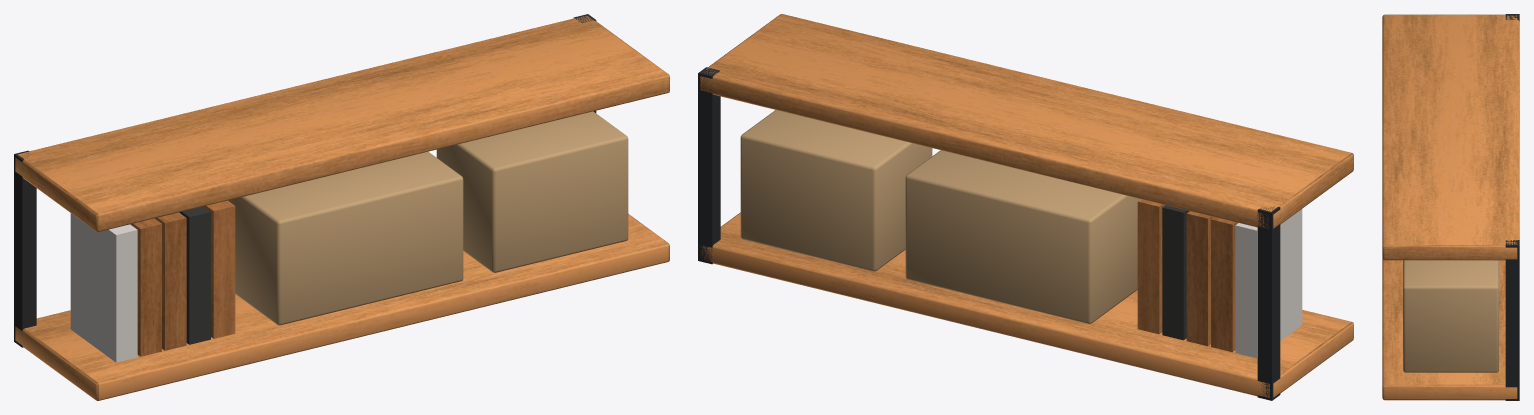
File: storage.wall-shelf-800x200.glb
The picture shows the model from 3 angles, left to right: view 1: azimuth 30°, elevation 25°; view 2: azimuth 150°, elevation 25°; view 3: azimuth 270°, elevation 25°; orthographic projection. The views are drawn at different scales.
Parts seen in each view (by area): view 1: storage.wall-shelf-800x200.001; view 2: storage.wall-shelf-800x200.001; view 3: storage.wall-shelf-800x200.001.
Boxes of the visible parts, x1=… form: storage.wall-shelf-800x200.001: x1=14, y1=14, x2=669, y2=400; storage.wall-shelf-800x200.001: x1=698, y1=14, x2=1353, y2=400; storage.wall-shelf-800x200.001: x1=1382, y1=14, x2=1519, y2=400.
Bounding box in the file's own units: 0.8 × 0.25 × 0.2.
Materials: 6 (2 with a texture image).
